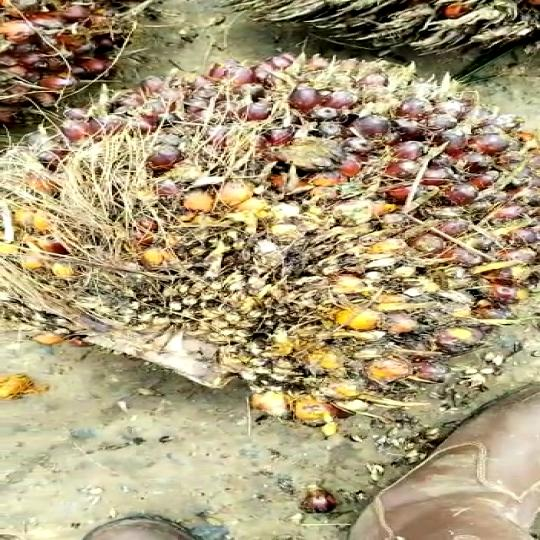kurang masak: (12, 51, 540, 431)
